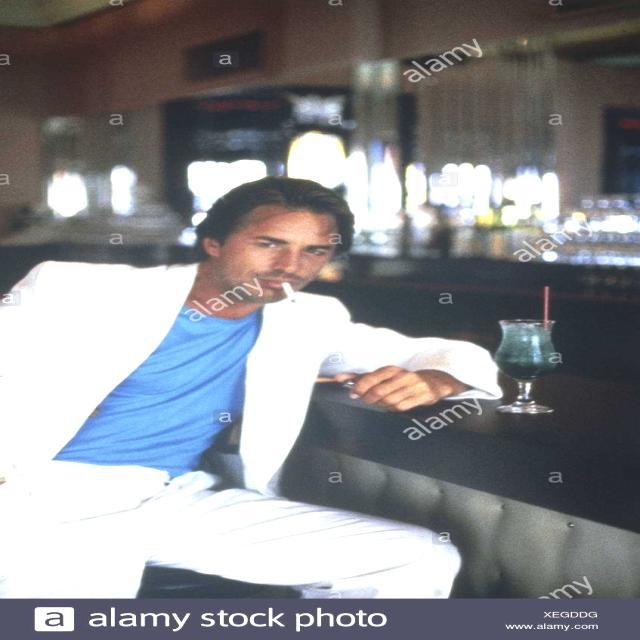Smooking: (278, 272, 308, 310)
